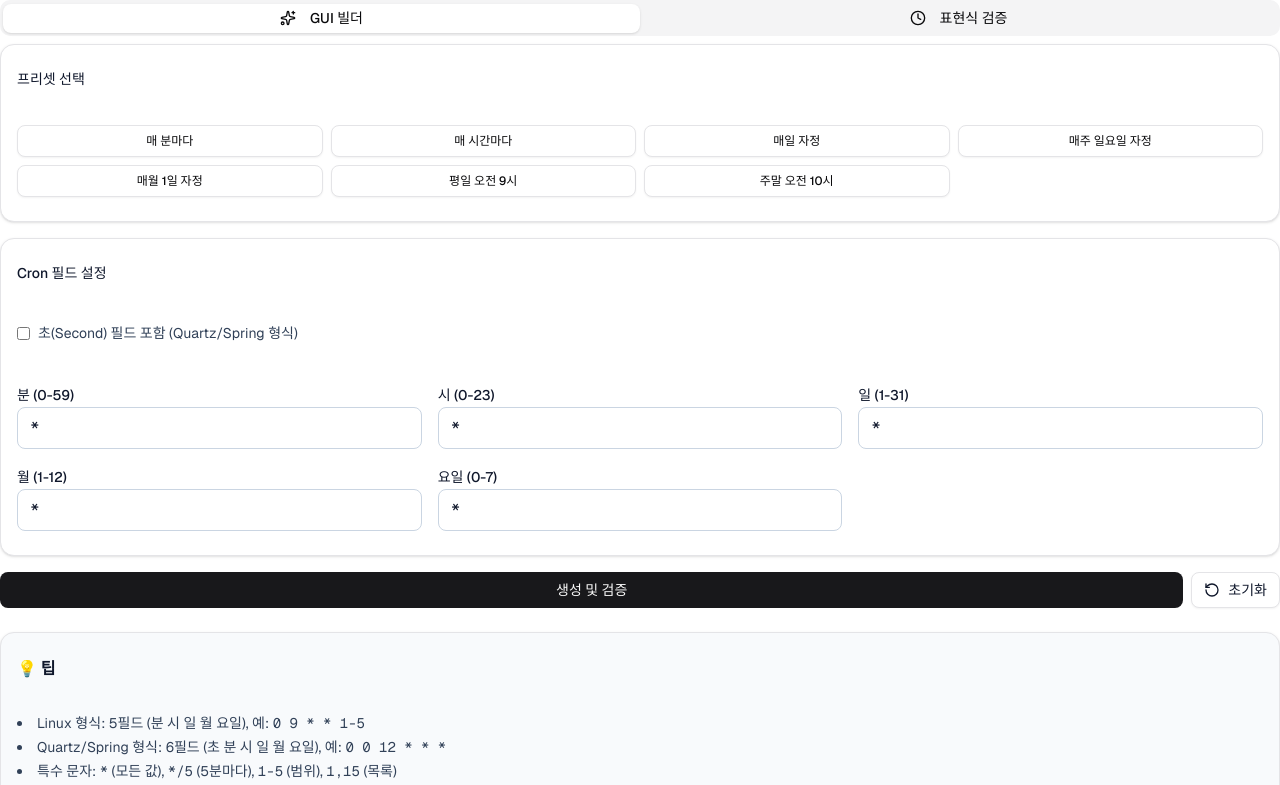
Test: CronExpressionGenerator Component › GUI 빌더 모드 테스트 › Cron 생성 실패 시 에러 메시지 표시
Click the button "생성 및 검증" at (592, 590), box [0,572,1183,608]
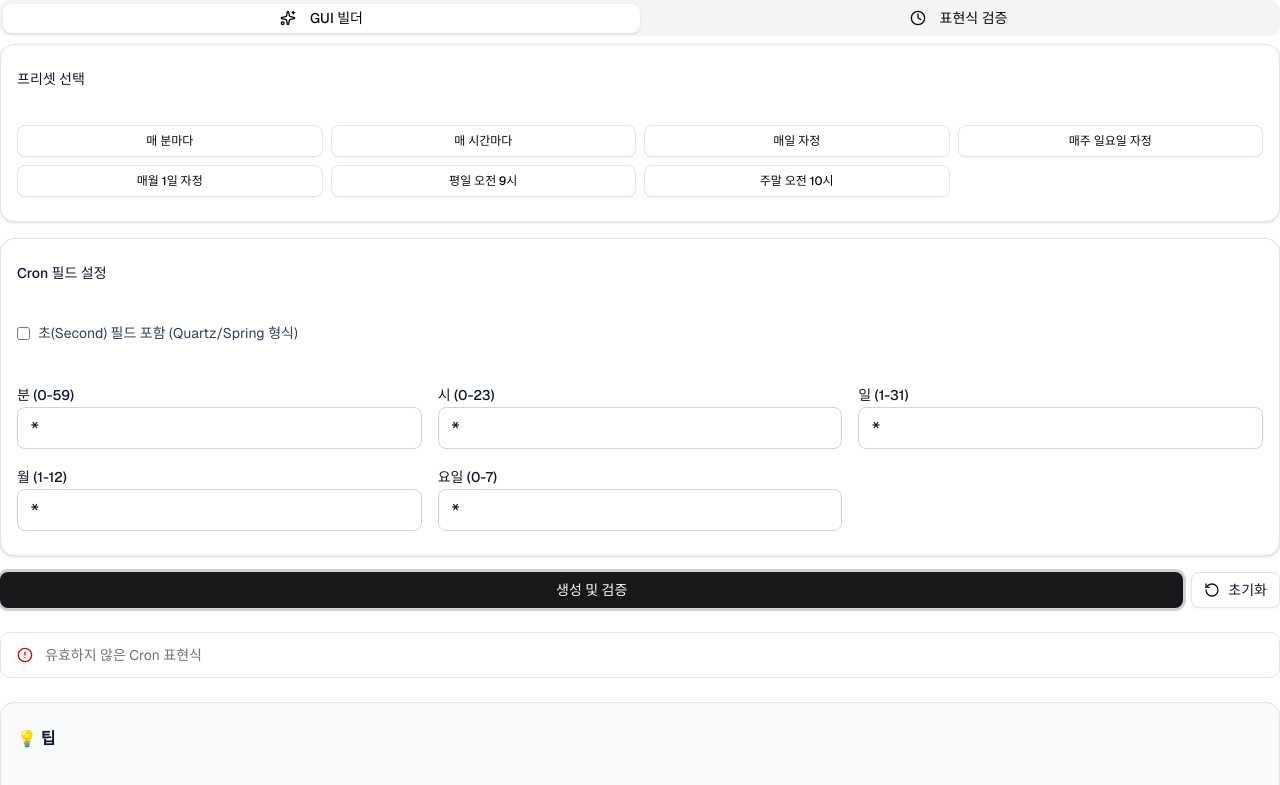
Result: the text "유효하지 않은 Cron 표현식" is shown at [45,646,202,664]
